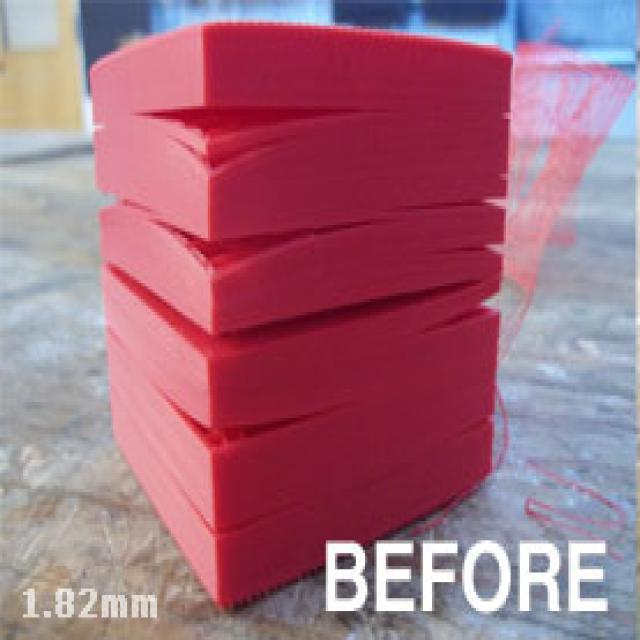cracks: (132, 85, 385, 192), (130, 218, 352, 310), (136, 386, 327, 482), (382, 266, 554, 338), (416, 185, 521, 229)
